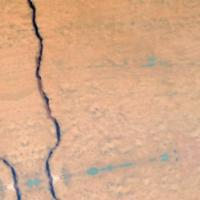crack: (0, 0, 63, 199)
